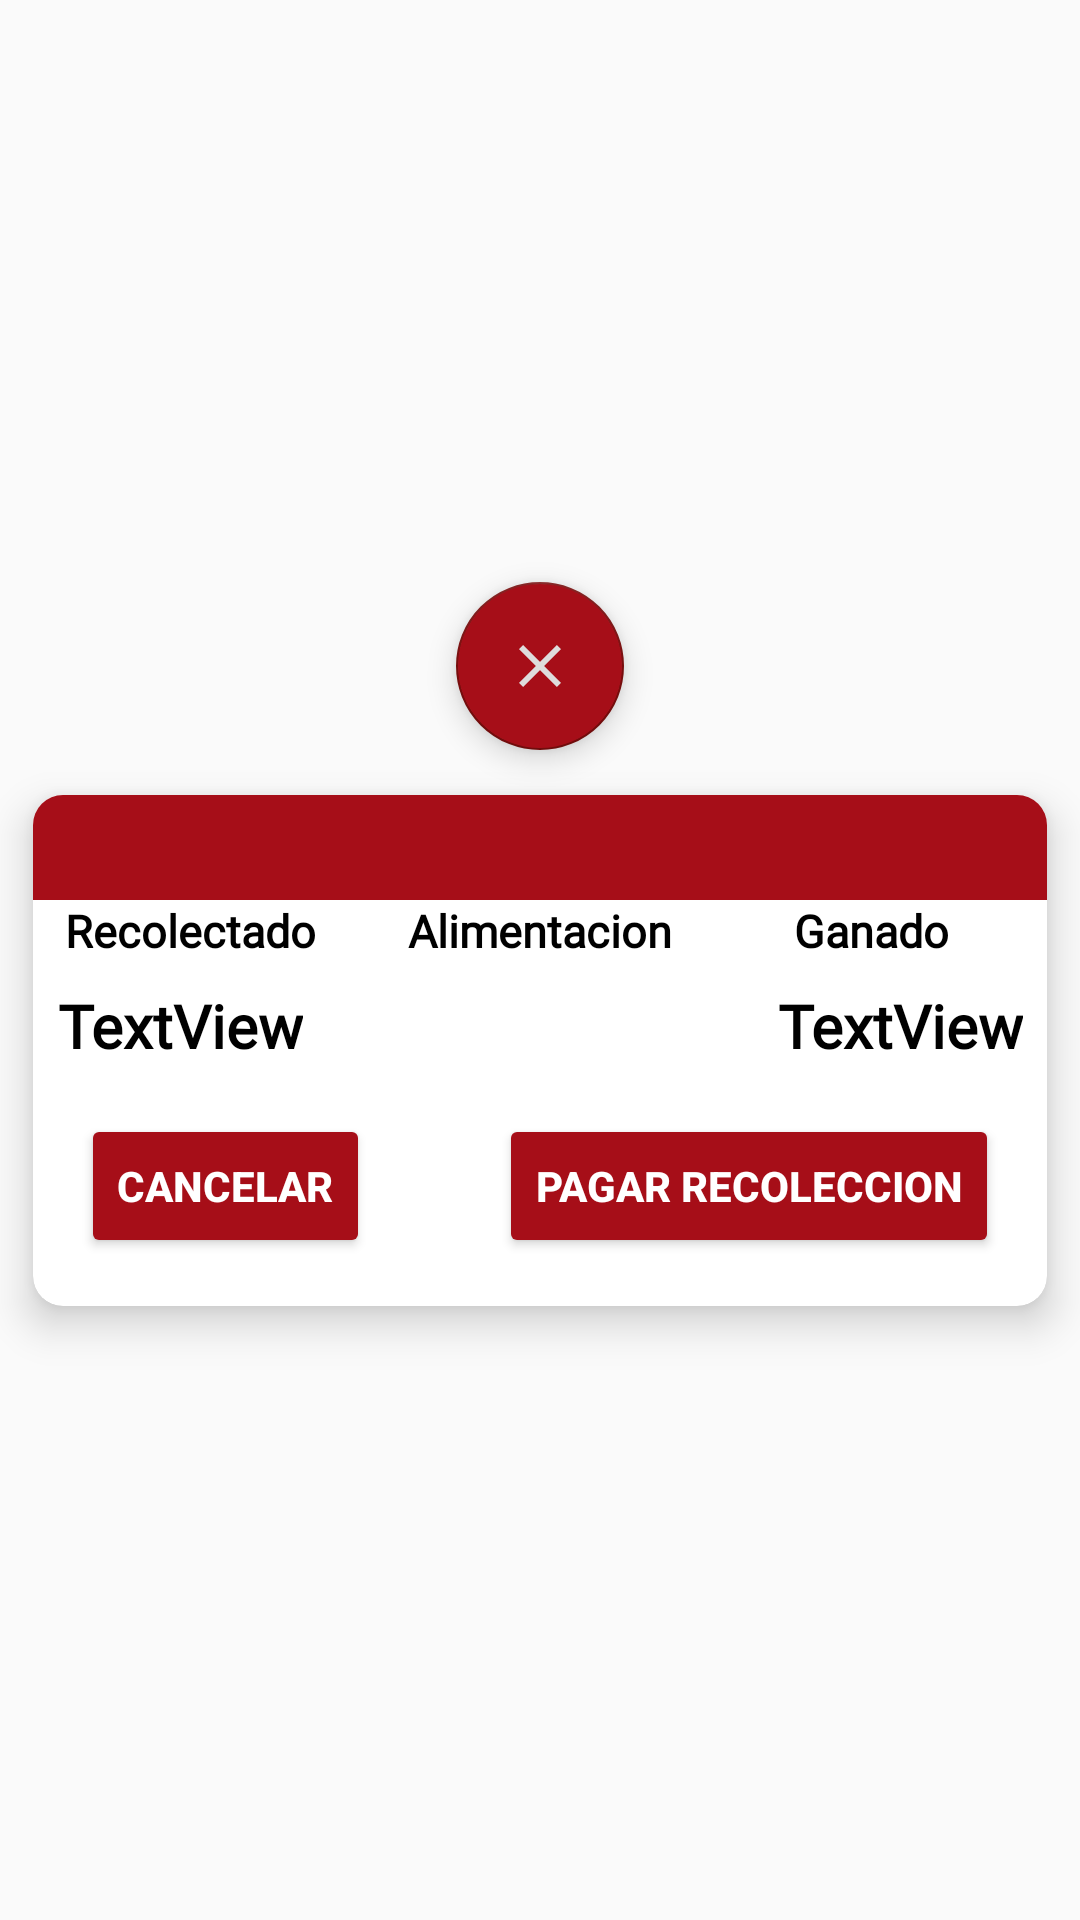

Screen size 1080*1920. Icon name, then its center in pixels as [x,y]:
close: [540,666]
